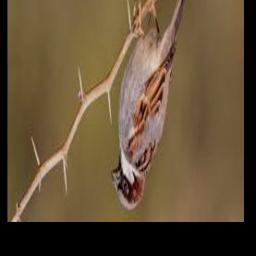Sparrow: (111, 0, 193, 211)
